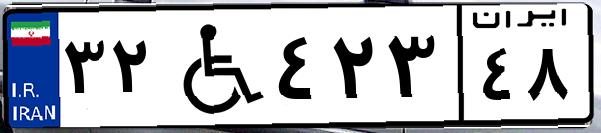2: (330, 28, 385, 110), (110, 28, 158, 98)
3: (385, 28, 445, 110), (57, 26, 110, 100)
4: (270, 28, 330, 110), (475, 38, 525, 113)
8: (525, 38, 570, 115)
ژ (معلولین و جانبازان): (158, 12, 270, 120)
